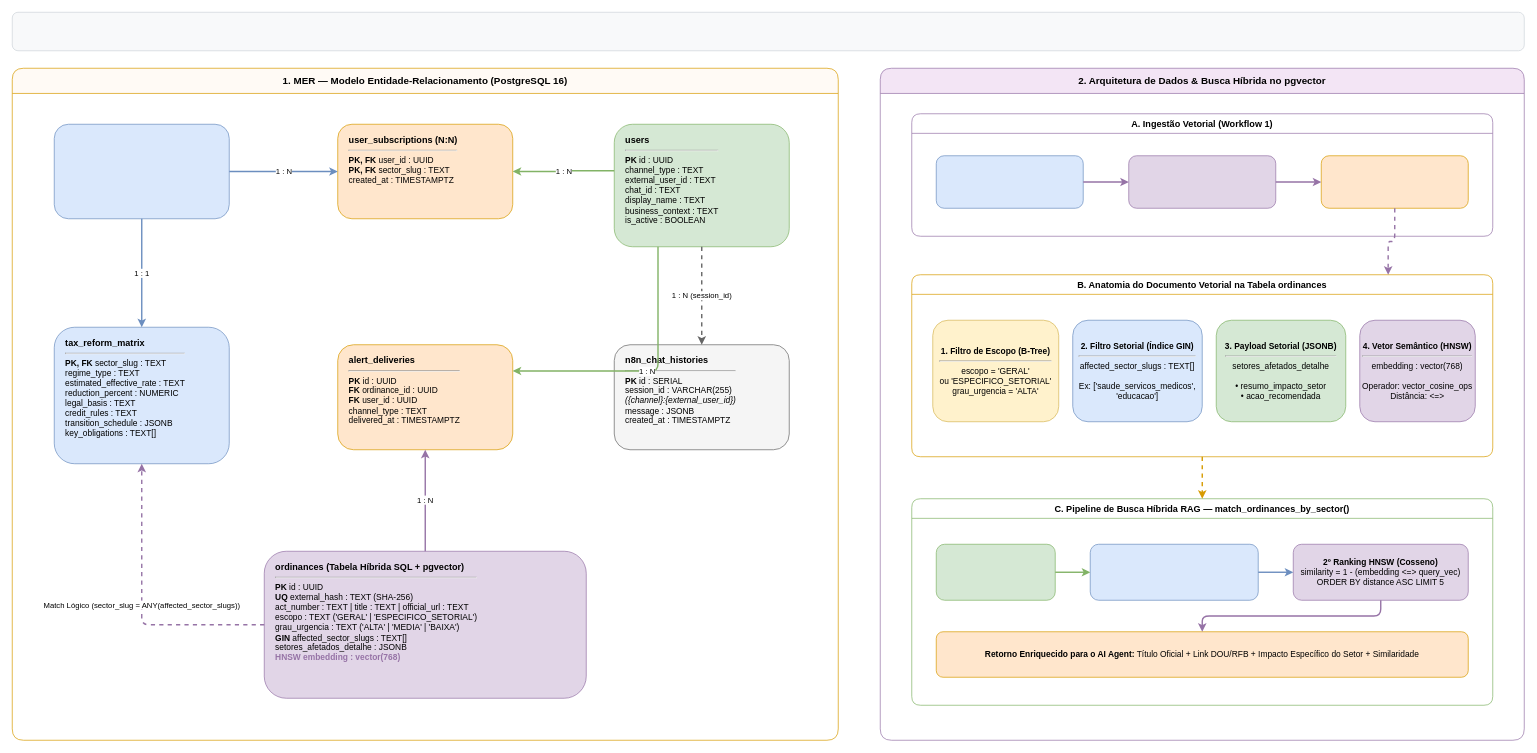
Some shapes in this 1537 by 753 pixel diagram are drawn without their labels. Each missing label, with the centre of its shape:
1º Pré-Filtro SQL + GIN affected_sector_slugs && user_slugs OR escopo = 'GERAL': (1174,572)
Fiscália — Modelo Entidade-Relacionamento (MER) & Arquitetura de Dados pgvector: (768,31)
Gemini text-embedding-004: (1202,181)
Pergunta do Usuário + Setores Inscritos: (995,572)
sectors PK slug : TEXT name : TEXT description : TEXT cnae_examples : TEXT[]: (141,171)
Texto do Ato + Resumo: (1009,181)
Vetor Denso: vector(768) [0.021, -0.044, ..., 0.018]: (1394,181)
